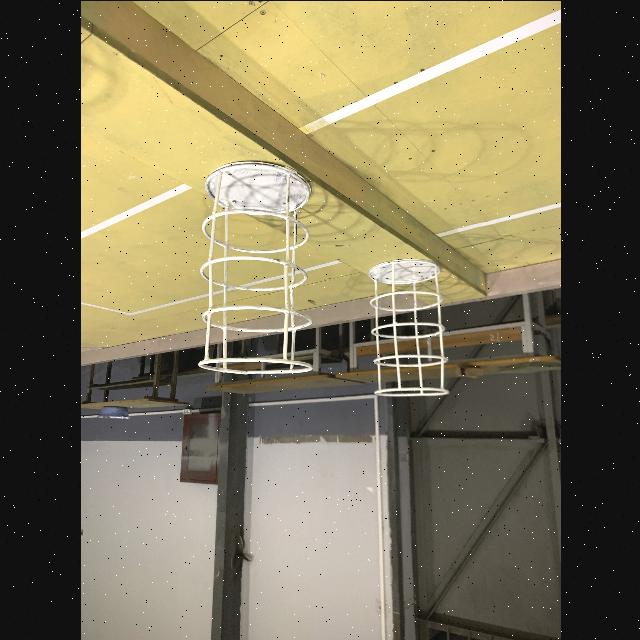S: (195, 160, 312, 376), (367, 257, 445, 398), (206, 330, 222, 356)
